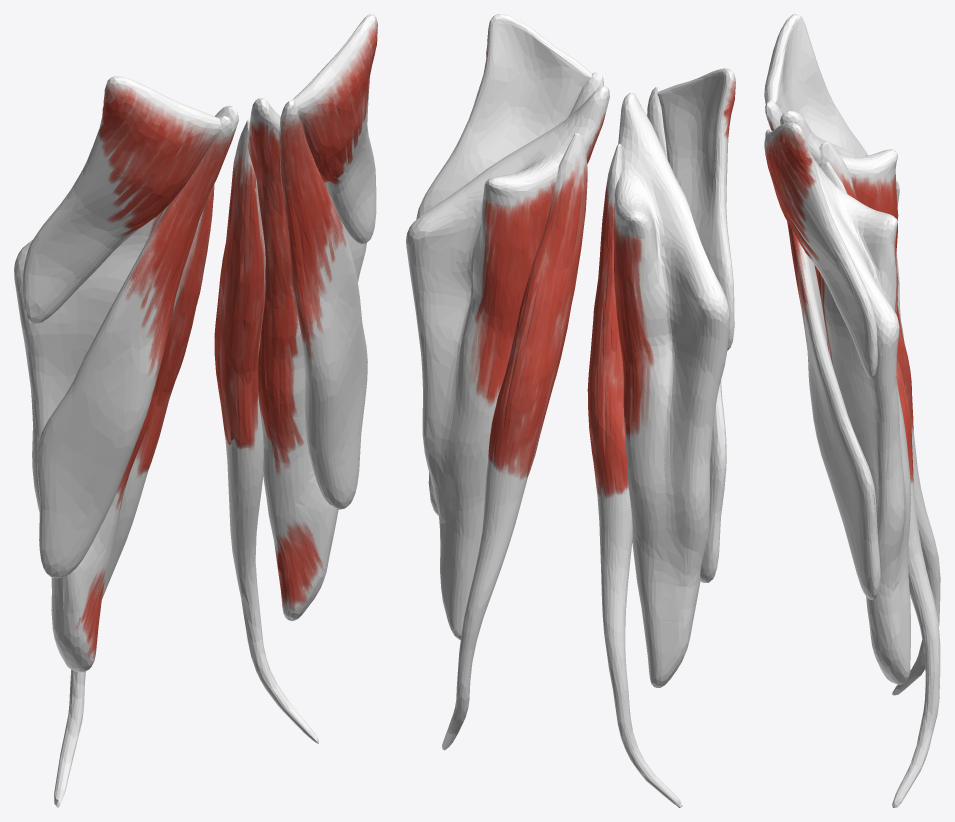
The model's file is SubTool-13-1064354.OBJ.
The picture shows the model from 3 angles, left to right: view 1: azimuth 30°, elevation 25°; view 2: azimuth 150°, elevation 25°; view 3: azimuth 270°, elevation 25°; orthographic projection. The views are drawn at different scales.
Parts seen in each view (by area): view 1: Group23318; view 2: Group23318; view 3: Group23318.
Boxes of the visible parts, <box> form: Group23318: <box>14,14,377,807</box>; Group23318: <box>406,14,735,807</box>; Group23318: <box>764,14,940,807</box>.
Size of the model in its own units: 8.98 by 18.66 by 4.37.
Materials: 1 (1 with a texture image).
